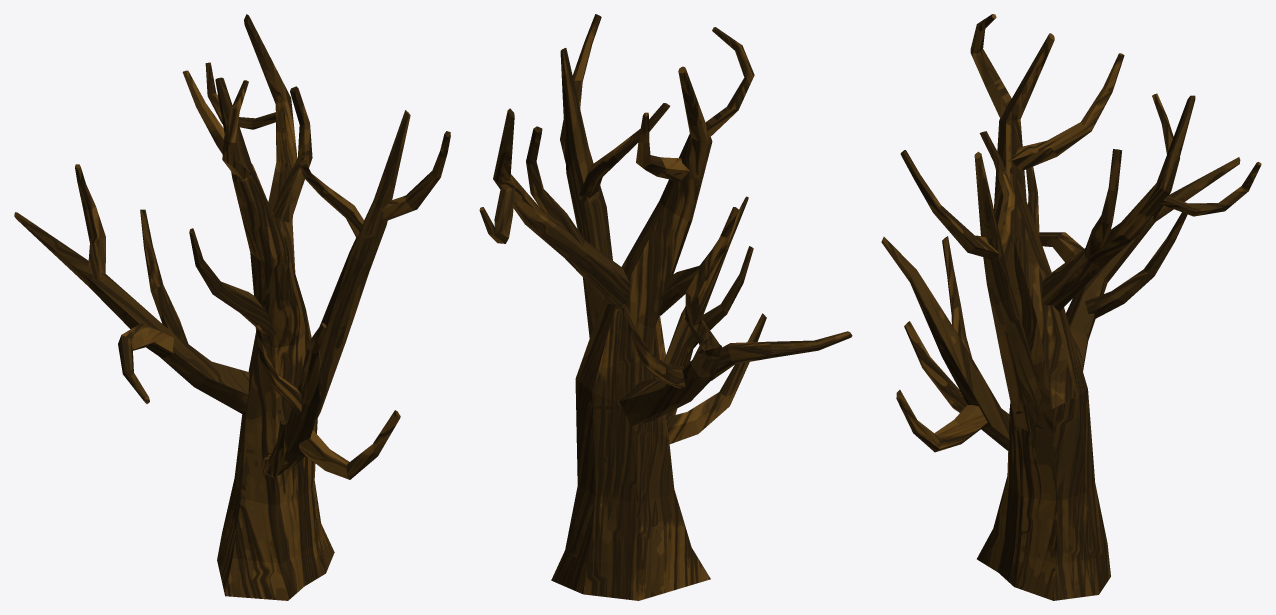
The model's file is Dead_Bush3.fbx.
3 renders of one model, left to right at view 1: azimuth 30°, elevation 25°; view 2: azimuth 150°, elevation 25°; view 3: azimuth 270°, elevation 25°, orthographic. The views are drawn at different scales.
Visible parts, largest first — view 1: Dead_Bush_3; view 2: Dead_Bush_3; view 3: Dead_Bush_3.
Part boxes in pixels (left/top/right/bottom): Dead_Bush_3: left=14, top=14, right=450, bottom=600; Dead_Bush_3: left=479, top=14, right=852, bottom=600; Dead_Bush_3: left=881, top=14, right=1261, bottom=600.
Bounding box in the file's own units: 23.31 × 26.75 × 41.02.
